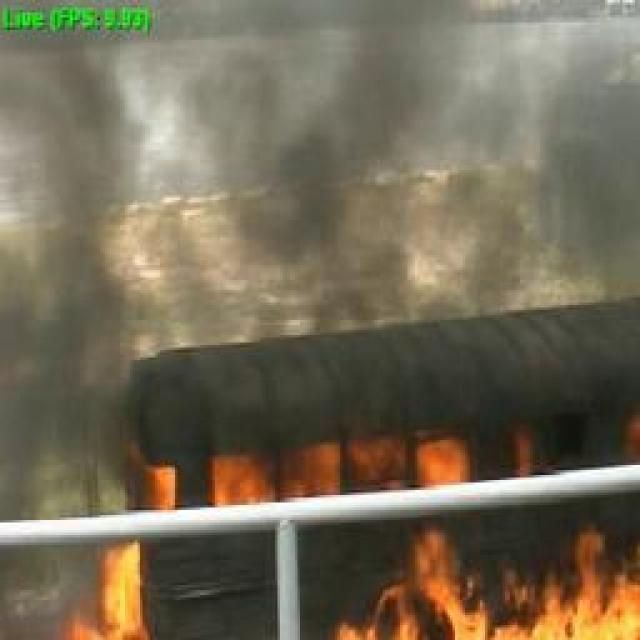Fire: (145, 440, 502, 503), (321, 528, 494, 638), (498, 531, 640, 638), (55, 546, 146, 639)
Smoke: (49, 58, 601, 318), (19, 342, 125, 484)
